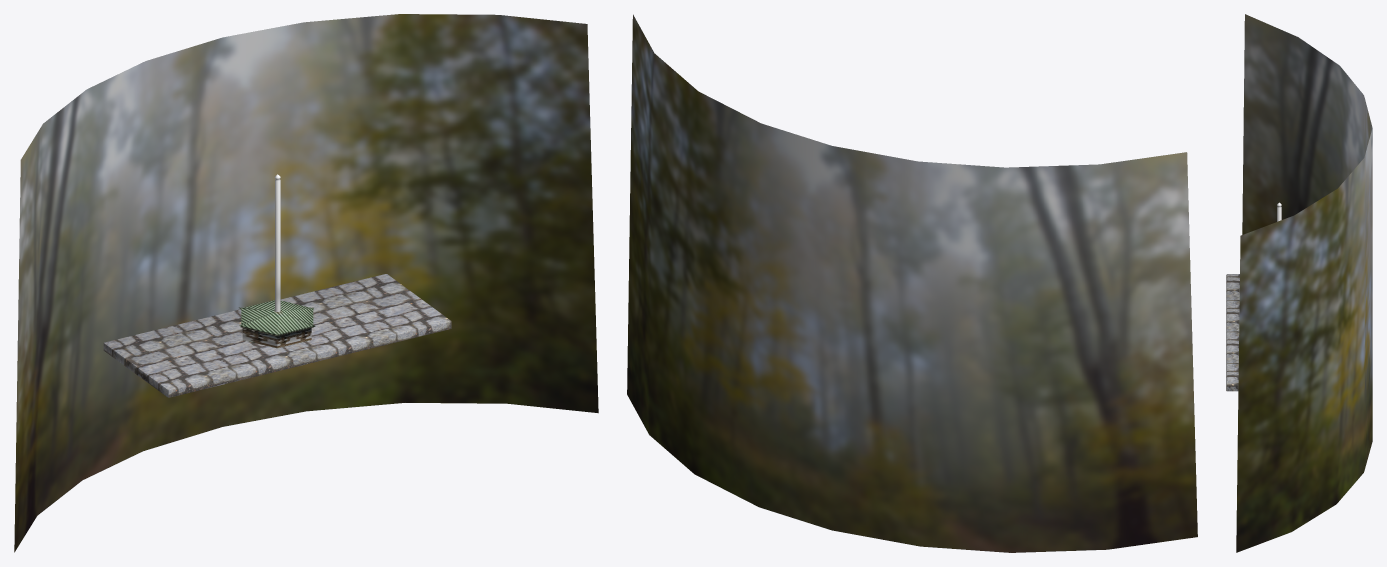
Rendered from Chinese.fbx.
The picture shows the model from 3 angles, left to right: view 1: azimuth 30°, elevation 25°; view 2: azimuth 150°, elevation 25°; view 3: azimuth 270°, elevation 25°; orthographic projection. The views are drawn at different scales.
Visible parts, largest first — view 1: Chinese_Env, Basic_Chinese, Chinese_Disc, Chinese_Staff; view 2: Chinese_Env; view 3: Chinese_Env, Basic_Chinese.
Part boxes in pixels (x1,y1,x2,y2): Chinese_Env: (14,14,598,552); Basic_Chinese: (103,274,451,397); Chinese_Disc: (239,300,315,348); Chinese_Staff: (274,174,280,311); Chinese_Env: (627,14,1197,552); Chinese_Env: (1236,14,1372,552); Basic_Chinese: (1226,274,1239,391).
Size of the model in its own units: 35.95 by 23.28 by 9.71.
